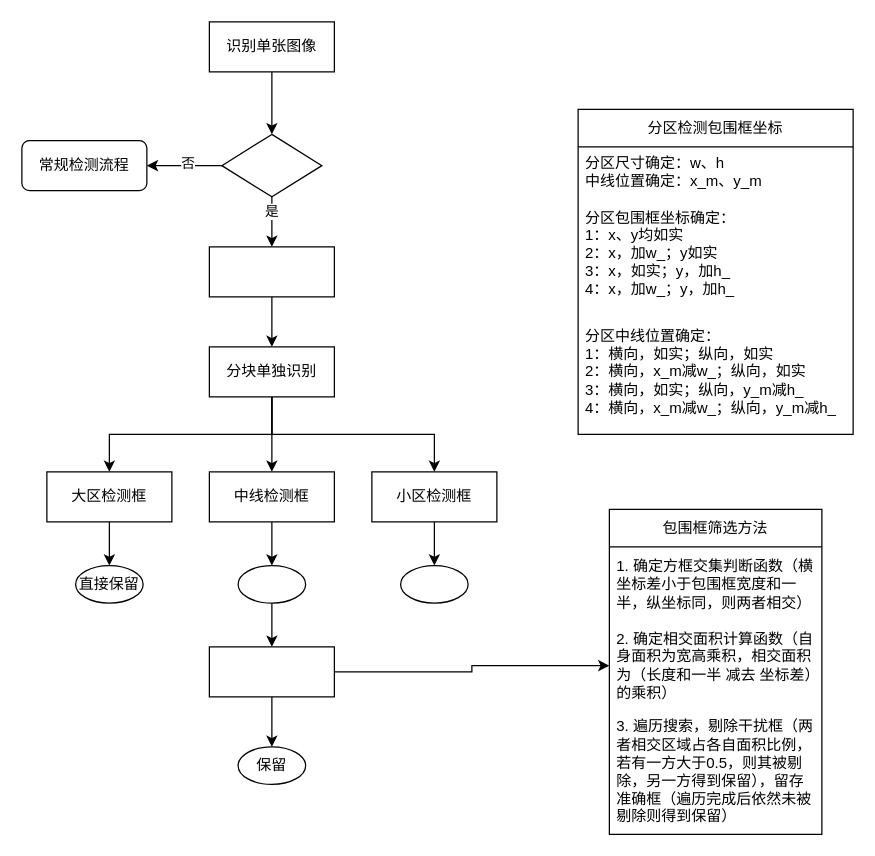
This 875x856 diagram has some shape labels left out. The shapes that lost their labels are listed below. From the top down, each one's centre as x and y in pixels, then its label:
point 271,165: 定日镜数量大于100
point 271,271: 分割区域为4块
point 271,583: 汇总
point 433,583: 丢弃
point 271,671: 抑制不准确框 保留准确框
